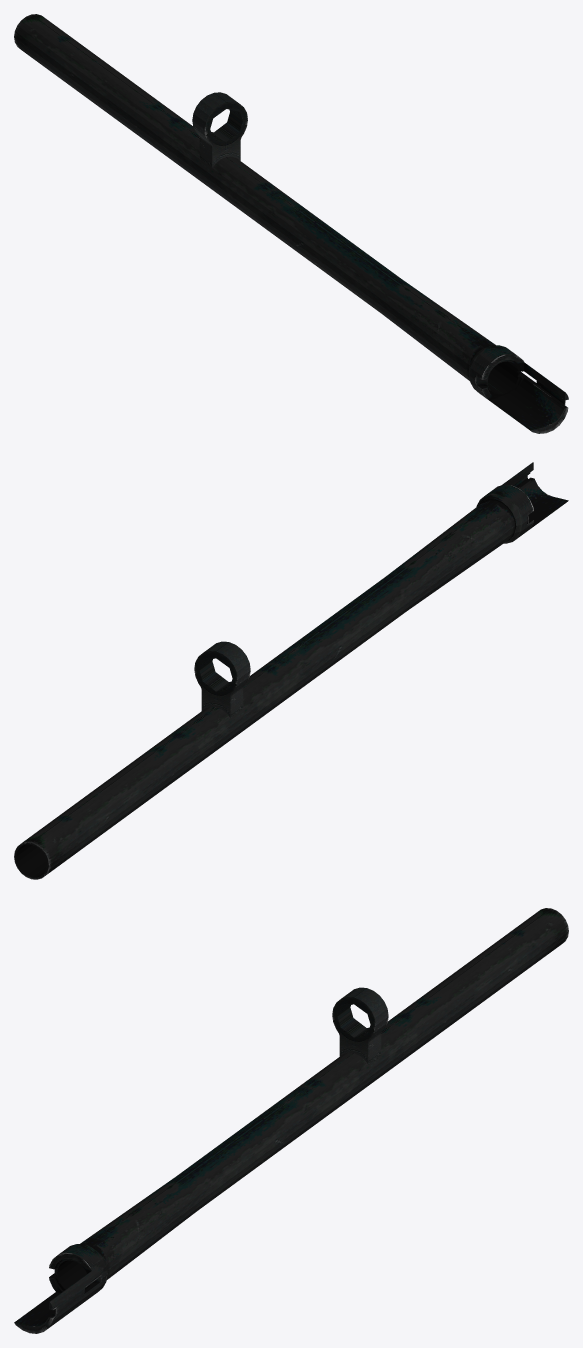
3 views of the same model, one above another, from view 1: azimuth 30°, elevation 25°; view 2: azimuth 150°, elevation 25°; view 3: azimuth 330°, elevation 25° (orthographic).
Visible parts, largest first — view 1: TW_55d4491a4bdc2d882f8b456e_PZ_Import; view 2: TW_55d4491a4bdc2d882f8b456e_PZ_Import; view 3: TW_55d4491a4bdc2d882f8b456e_PZ_Import.
Boxes of the visible parts, box(x1,y1,x2,y2) form: TW_55d4491a4bdc2d882f8b456e_PZ_Import: box(14, 14, 568, 433); TW_55d4491a4bdc2d882f8b456e_PZ_Import: box(14, 462, 568, 879); TW_55d4491a4bdc2d882f8b456e_PZ_Import: box(14, 908, 568, 1333).
Size of the model in its own units: 0.0167 by 0.3206 by 0.0334.
Materials: 1 (1 with a texture image).
